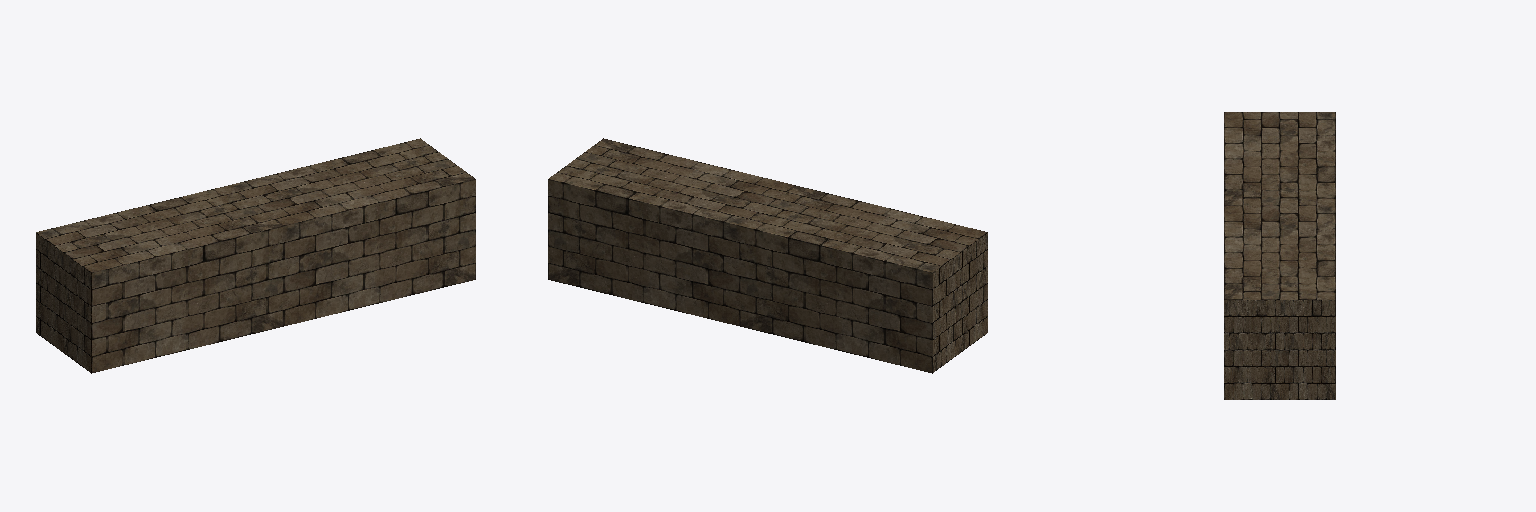
3 views of the same model, side by side, from view 1: azimuth 30°, elevation 25°; view 2: azimuth 150°, elevation 25°; view 3: azimuth 270°, elevation 25° (orthographic).
Parts seen in each view (by area): view 1: Cube; view 2: Cube; view 3: Cube.
Part boxes in pixels (left/top/right/bottom): Cube: left=36, top=138, right=475, bottom=373; Cube: left=548, top=138, right=987, bottom=373; Cube: left=1224, top=112, right=1335, bottom=399.
Bounding box in the file's own units: 4 × 1 × 1.
1 materials, 1 textured.